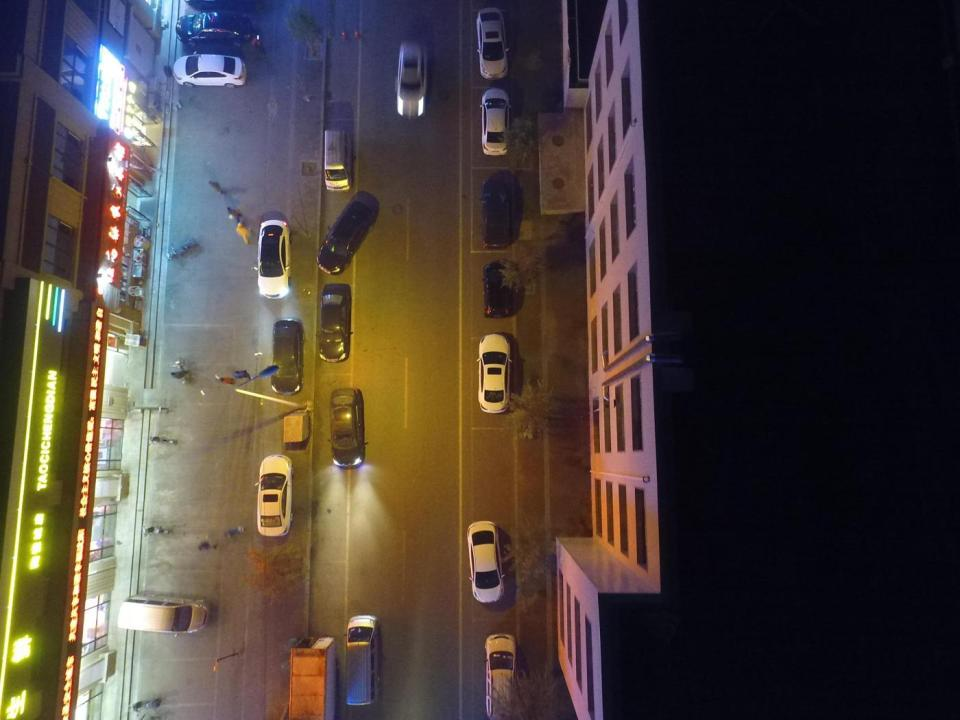car: (316, 202, 374, 275), (328, 388, 368, 468), (254, 454, 293, 536), (467, 521, 505, 603), (253, 220, 292, 298), (176, 11, 253, 48), (317, 284, 353, 362), (476, 334, 511, 414), (173, 52, 247, 89), (476, 7, 510, 80), (272, 319, 304, 393), (395, 41, 426, 117), (480, 179, 512, 248), (480, 88, 512, 155), (482, 264, 512, 318)
truck: (288, 637, 337, 719)
van: (118, 596, 208, 634), (345, 614, 380, 706), (485, 635, 516, 718), (324, 130, 352, 191)
